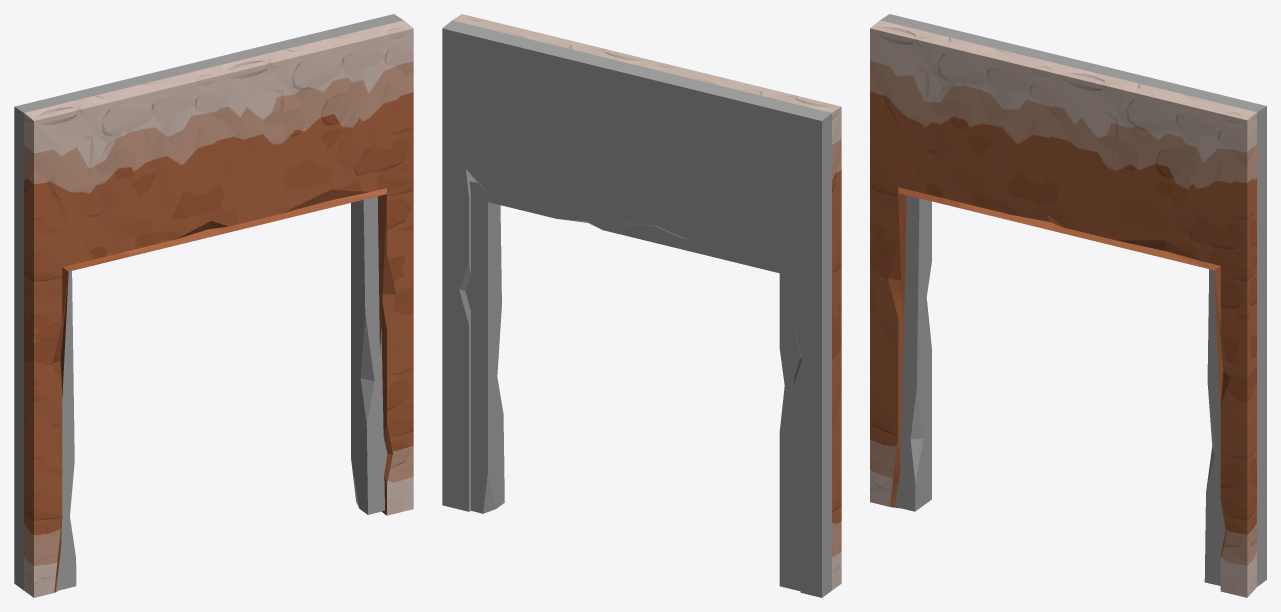
The model's file is SM_Bld_Wall_Door_Double_01.fbx.
3 views of the same model, side by side, from view 1: azimuth 30°, elevation 25°; view 2: azimuth 150°, elevation 25°; view 3: azimuth 330°, elevation 25° (orthographic).
Visible parts, largest first — view 1: SM_Bld_Wall_Door_Double_01; view 2: SM_Bld_Wall_Door_Double_01; view 3: SM_Bld_Wall_Door_Double_01.
Boxes of the visible parts, <box> form: SM_Bld_Wall_Door_Double_01: <box>14,14,413,597</box>; SM_Bld_Wall_Door_Double_01: <box>442,14,841,597</box>; SM_Bld_Wall_Door_Double_01: <box>870,14,1266,597</box>.
Bounding box in the file's own units: 250 × 303 × 26.31.
